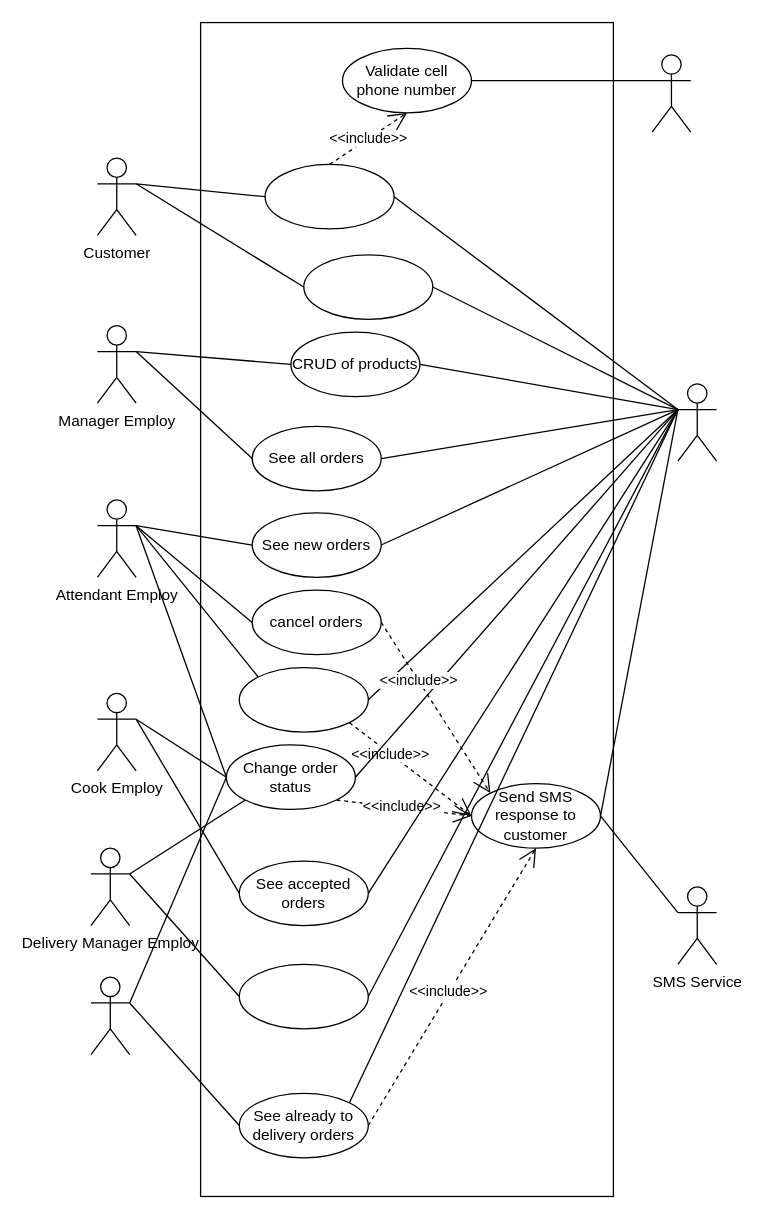
The diagram is 764 pixels wide and 1219 high, and some of its shapes have lost their labels. Each missing label, with the centre of its shape:
"Accept or deny new orders" belongs at (303,699).
"Database" belongs at (697,421).
"Delivery Man Employ" belongs at (110,1015).
"Make a order" belongs at (329,196).
"See cooked orders" belongs at (303,996).
"See products" belongs at (368,286).
"SMS Validator" belongs at (671,93).
